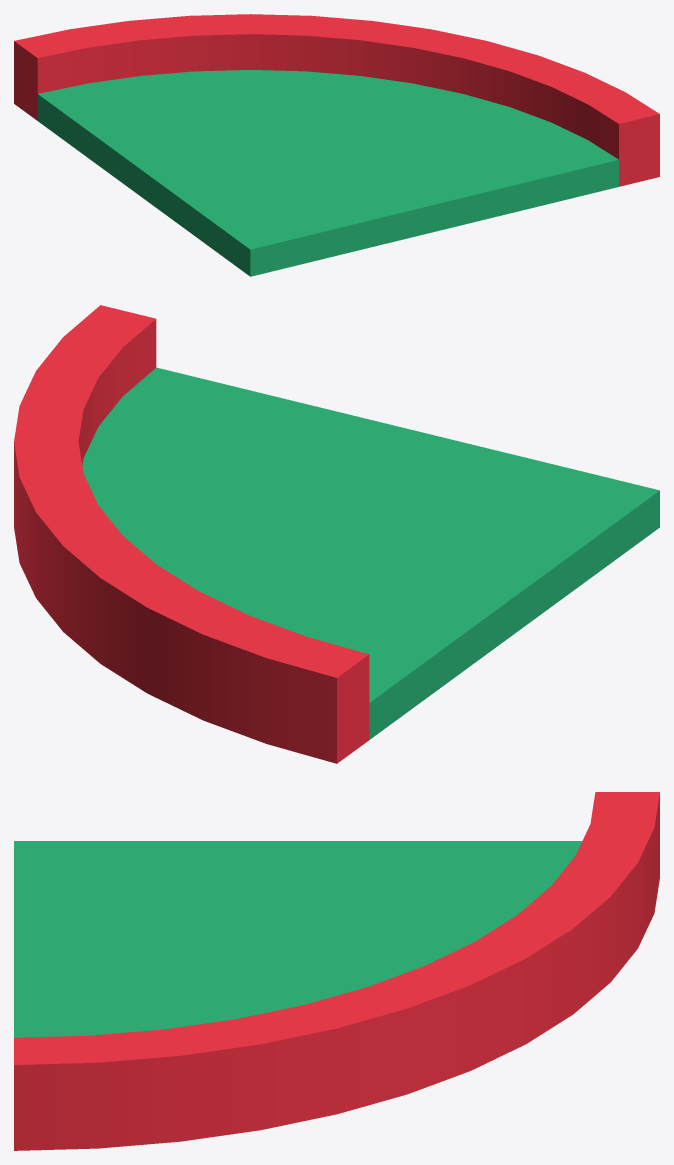
Rendered from roundCornerC.obj.
3 renders of one model, top to bottom at view 1: azimuth 30°, elevation 25°; view 2: azimuth 150°, elevation 25°; view 3: azimuth 270°, elevation 25°, orthographic. The views are drawn at different scales.
Visible parts, largest first — view 1: roundCornerC; view 2: roundCornerC; view 3: roundCornerC.
Boxes of the visible parts, x1,y1,x2,y2 form: roundCornerC: [14, 14, 659, 276]; roundCornerC: [14, 305, 659, 763]; roundCornerC: [14, 792, 659, 1150].
Size of the model in its own units: 0.9999 by 0.1467 by 0.9999.
